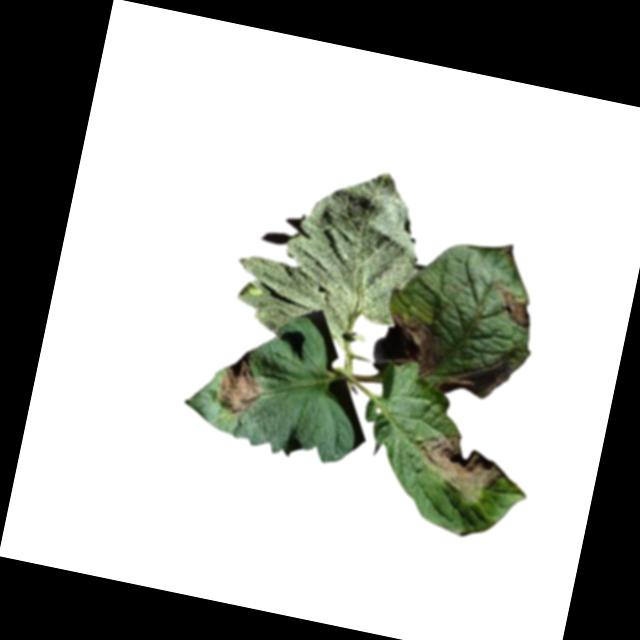Late_blight: (411, 423, 513, 509), (433, 351, 517, 408), (383, 311, 443, 376), (212, 350, 268, 419), (498, 284, 539, 332)
healthy: (227, 150, 439, 363)
